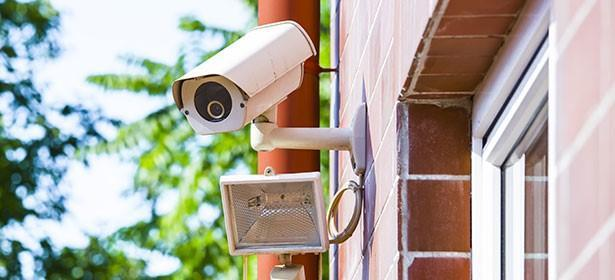Security camera: (170, 19, 372, 277), (170, 19, 316, 135)
